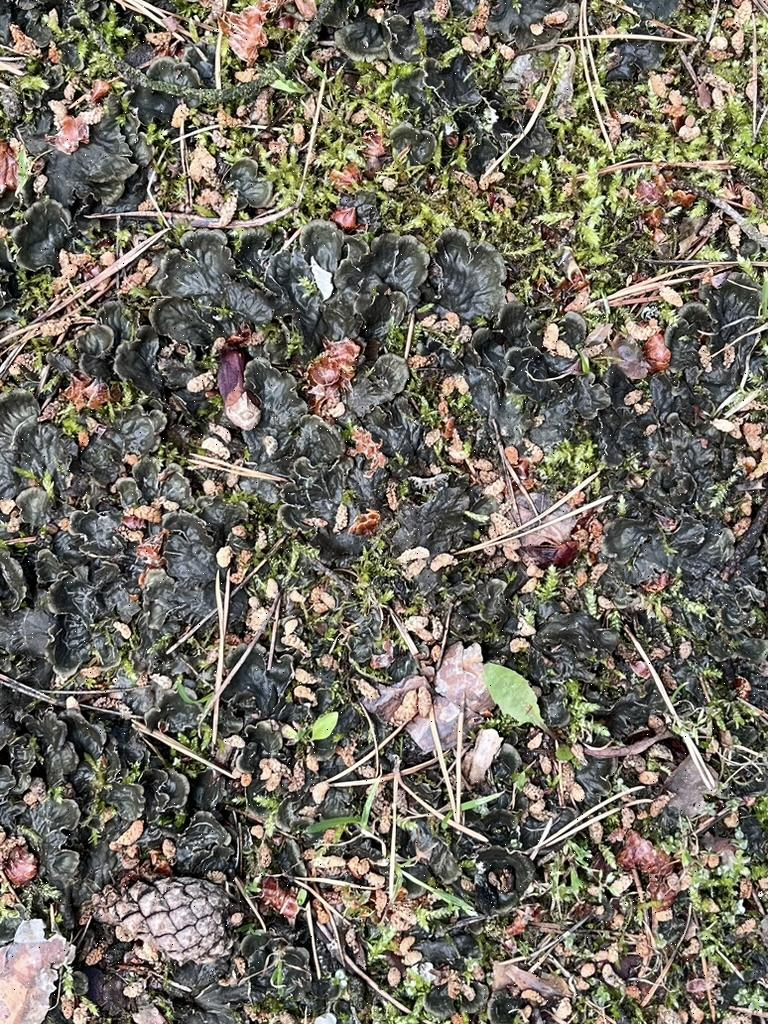pine: (84, 866, 249, 978)
